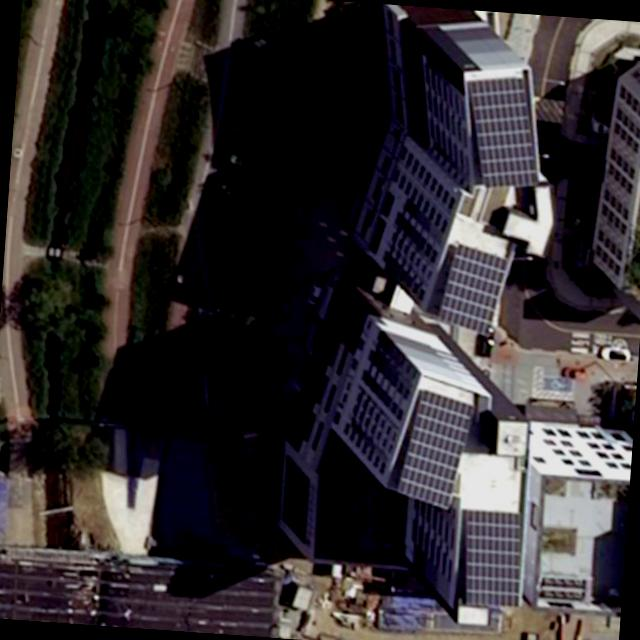solar: (458, 68, 546, 192), (394, 386, 478, 512), (438, 240, 512, 338), (458, 510, 527, 610)
